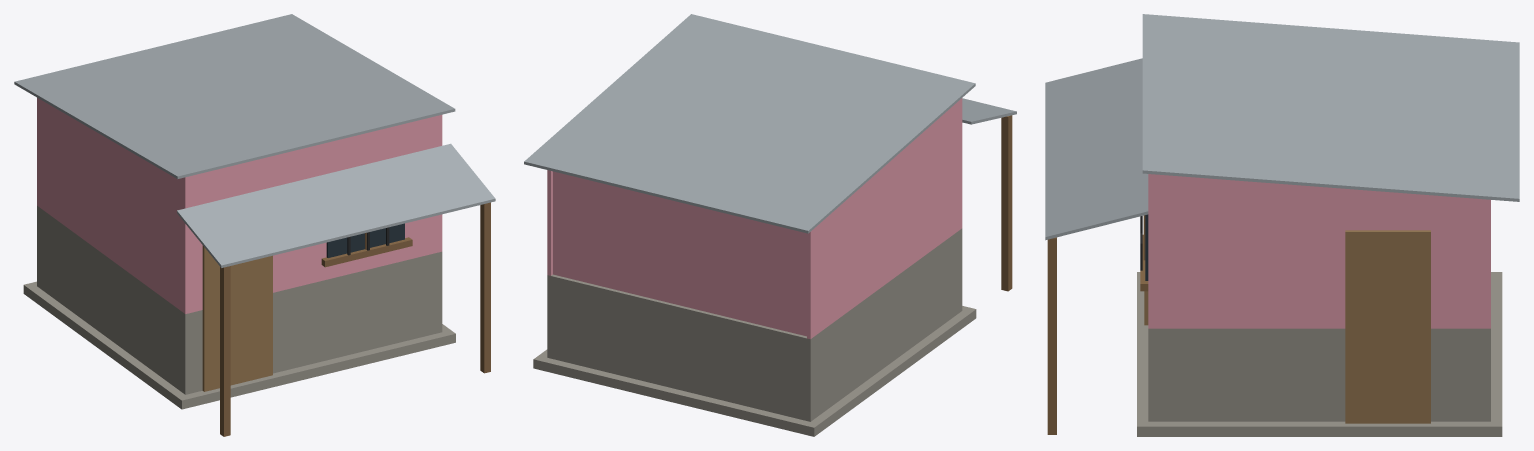
The model's file is BAY_I_SariSari_T.glb.
3 renders of one model, left to right at view 1: azimuth 30°, elevation 25°; view 2: azimuth 150°, elevation 25°; view 3: azimuth 270°, elevation 25°, orthographic. The views are drawn at different scales.
Parts seen in each view (by area): view 1: BAY_I_SariSari_T; view 2: BAY_I_SariSari_T; view 3: BAY_I_SariSari_T.
Boxes of the visible parts, x1=… form: BAY_I_SariSari_T: x1=14, y1=14, x2=495, y2=436; BAY_I_SariSari_T: x1=524, y1=14, x2=1016, y2=436; BAY_I_SariSari_T: x1=1045, y1=14, x2=1519, y2=436.
Bounding box in the file's own units: 3.24 × 2.58 × 4.15.
1 material, 1 textured.
